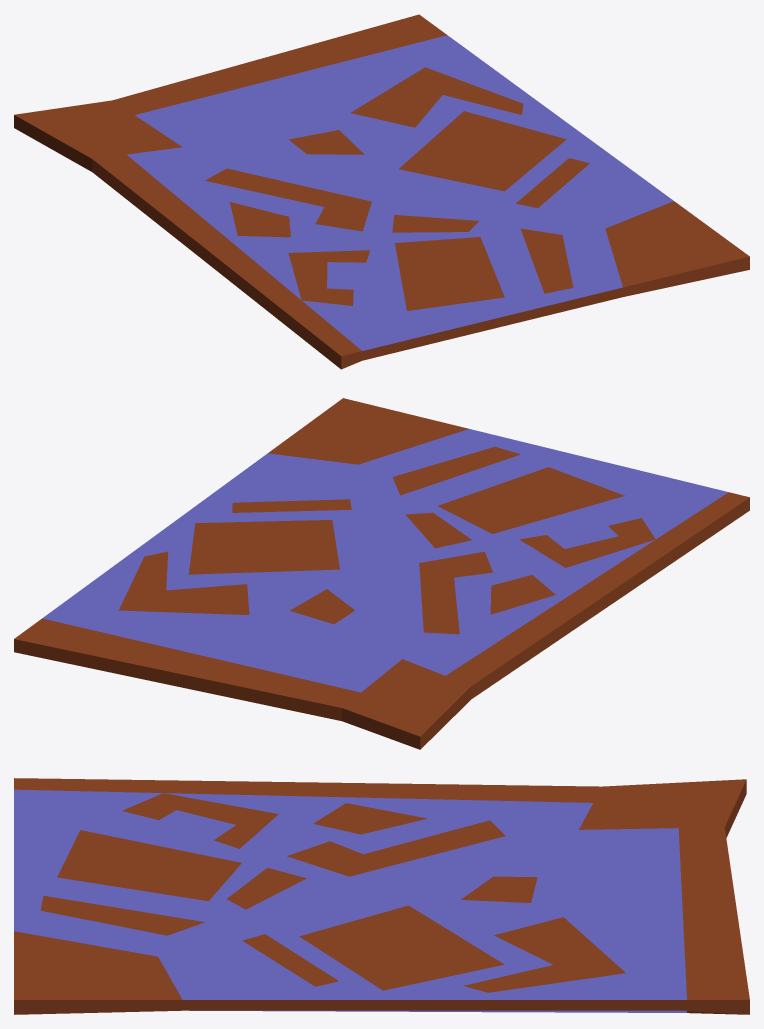
Rendered from carpetSection.glb.
3 renders of one model, top to bottom at view 1: azimuth 30°, elevation 25°; view 2: azimuth 150°, elevation 25°; view 3: azimuth 270°, elevation 25°, orthographic. The views are drawn at different scales.
Visible parts, largest first — view 1: cloth; view 2: cloth; view 3: cloth.
Part boxes in pixels (x1,y1,x2,y2): cloth: (14, 14, 749, 369); cloth: (14, 398, 749, 749); cloth: (14, 778, 749, 1014).
Size of the model in its own units: 0.5883 by 0.0182 by 0.8245.
